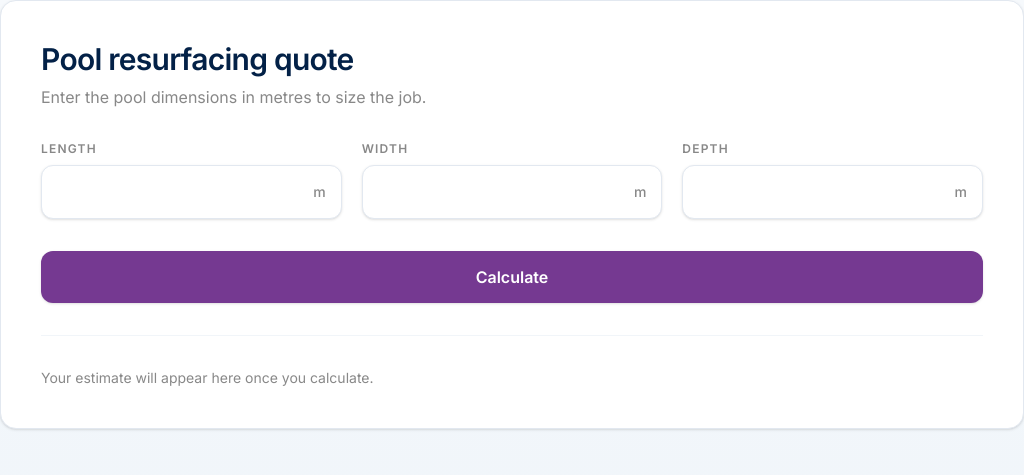
Test: Calculator › rejects a zero dimension
Type "10" into the number field labelled "Length" at (191, 192), box [41, 165, 342, 219]
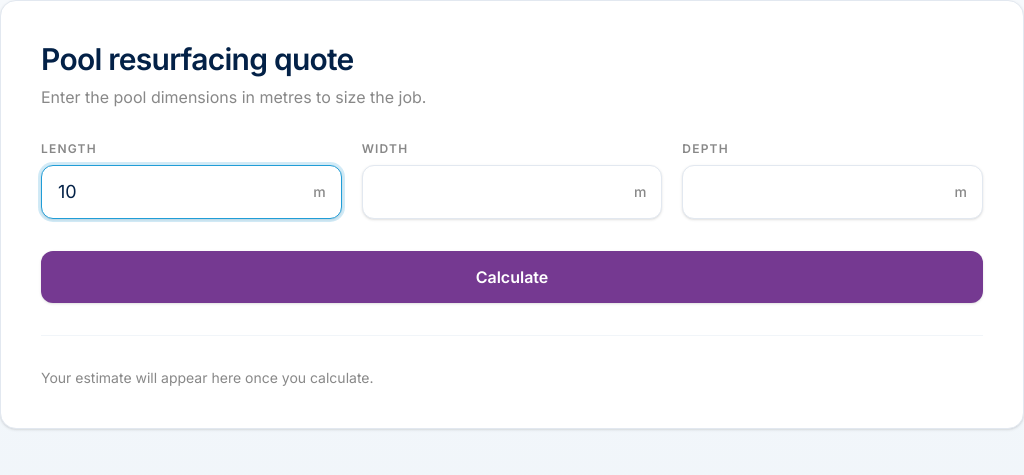
Type "5" into the number field labelled "Width" at (512, 192), box [362, 165, 662, 219]
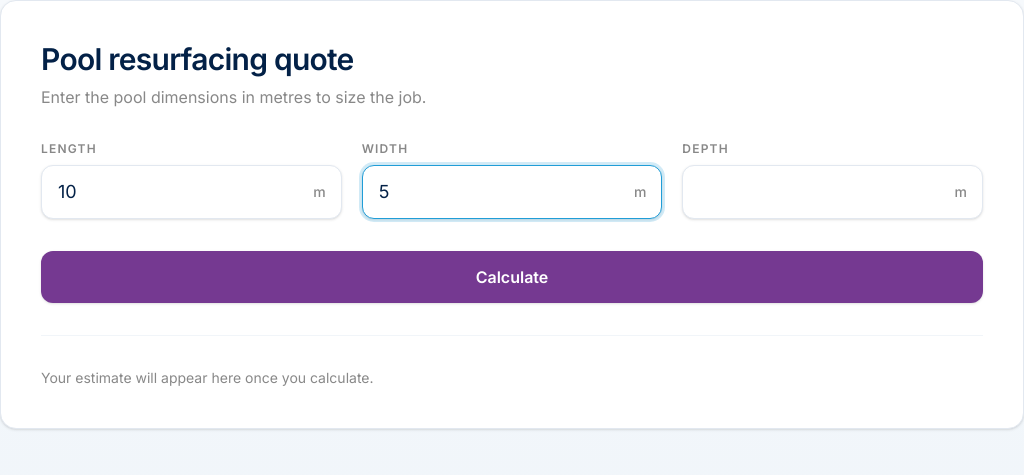
Type "0" into the number field labelled "Depth" at (833, 192), box [682, 165, 983, 219]
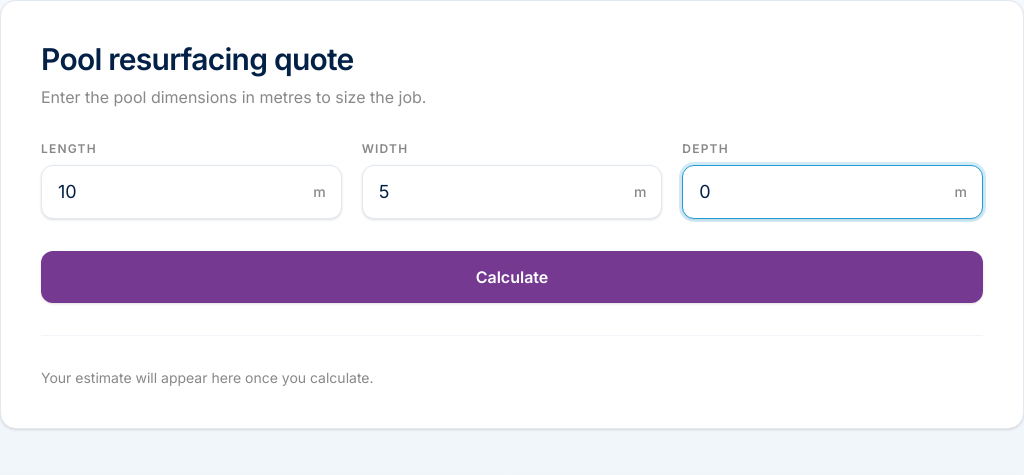
Click the button "Calculate" at (512, 277), box [41, 251, 983, 303]
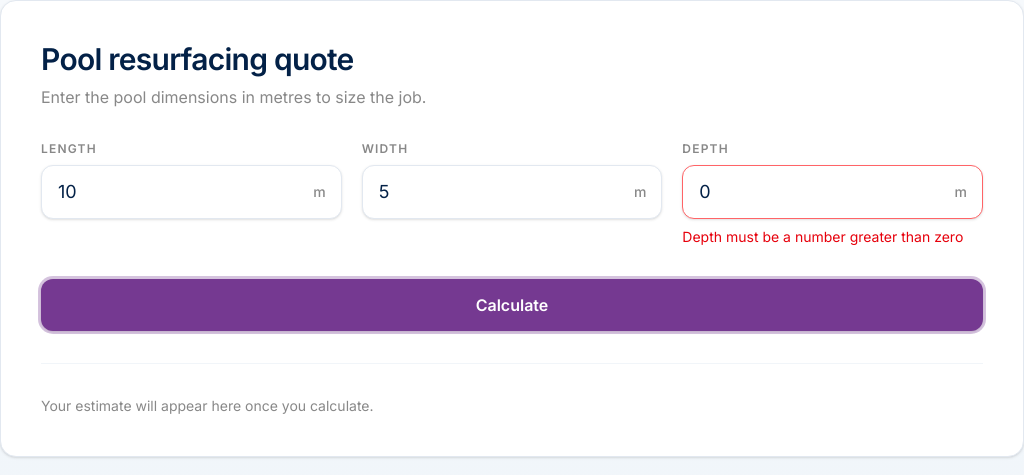
Expected: the text "Depth must be a number greater than zero" is shown, [682, 227, 983, 247]
